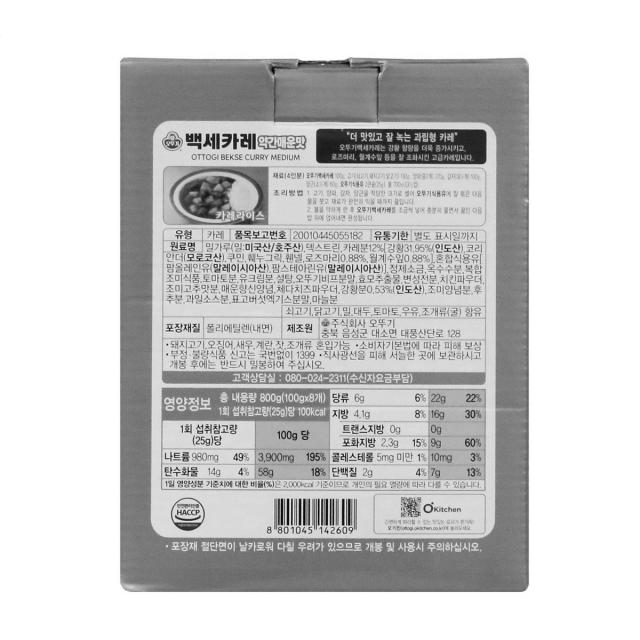Nutrition Label: (148, 383, 497, 495)
